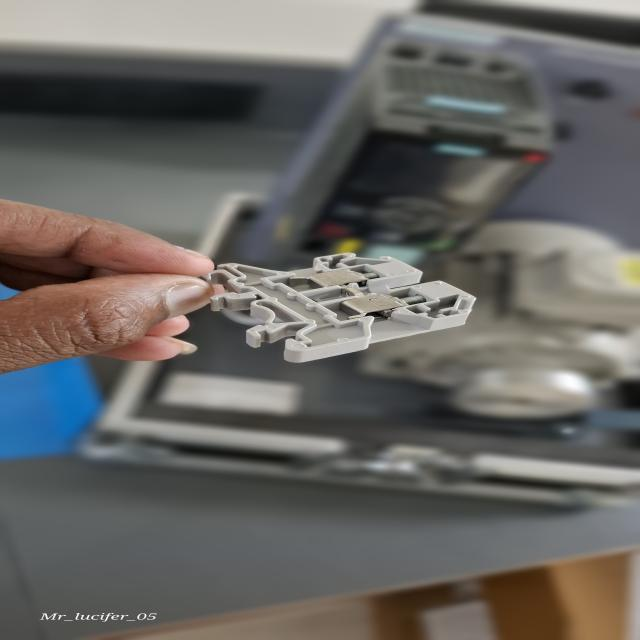Pass: (193, 248, 485, 366)
